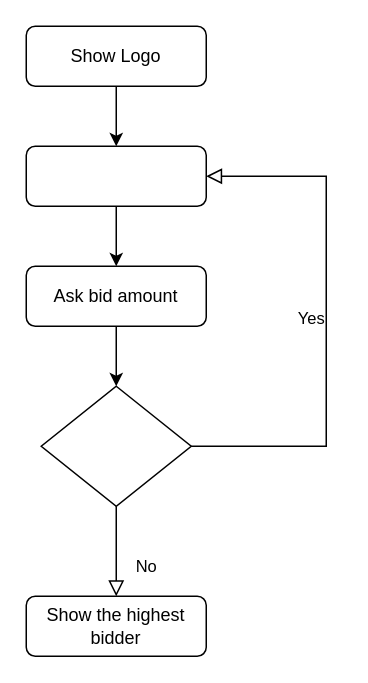
Image size: 368x683. Some labels were removed from this diagram. Each missing label, with the centre of its shape:
"Are there other bidders?" goes at point (115, 445).
"Ask bidder's name" goes at point (115, 175).
